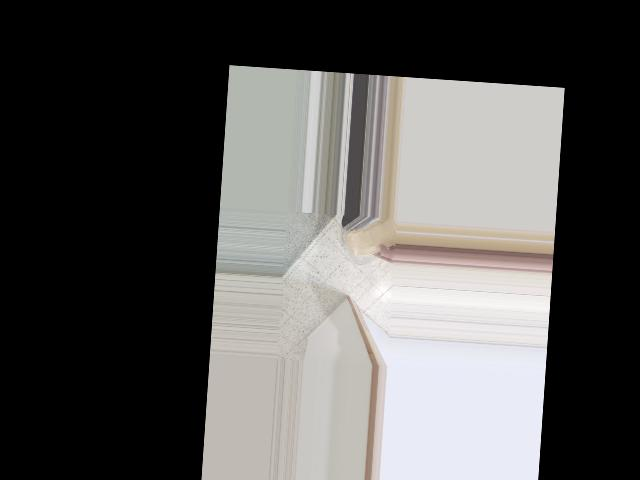cheese: (340, 214, 398, 266)
